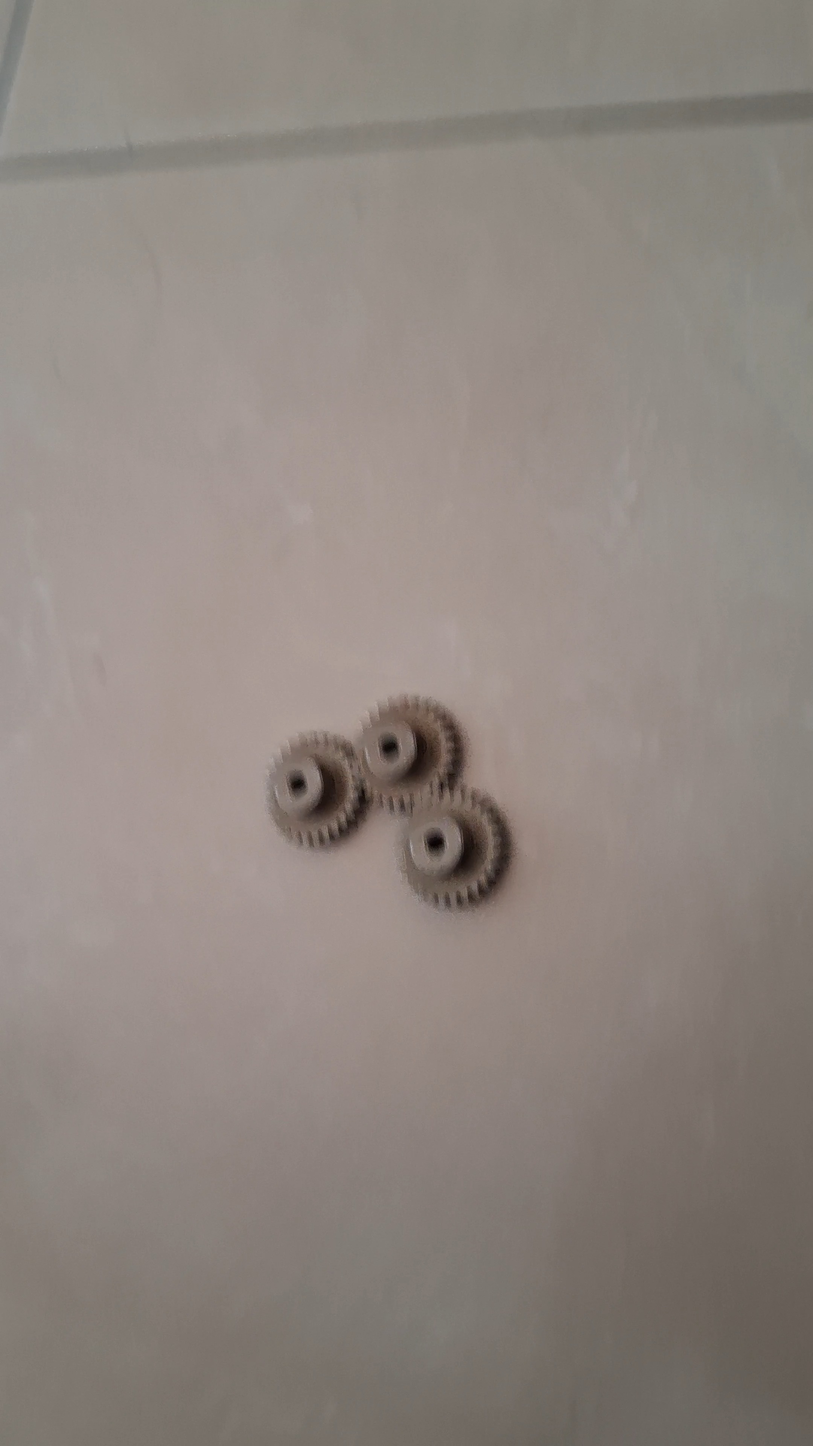spur gear: (399, 786, 507, 908), (358, 696, 460, 813), (268, 733, 365, 847)
